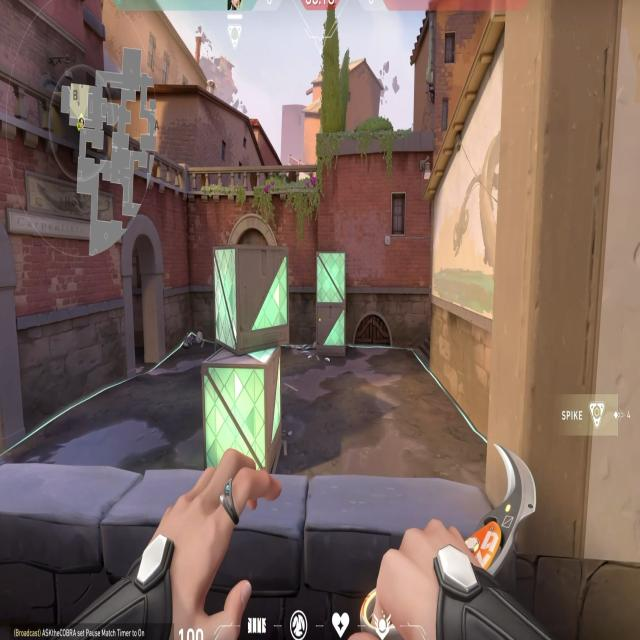B_Site_Box: (204, 242, 296, 472)
Throwables: (111, 204, 175, 381)
